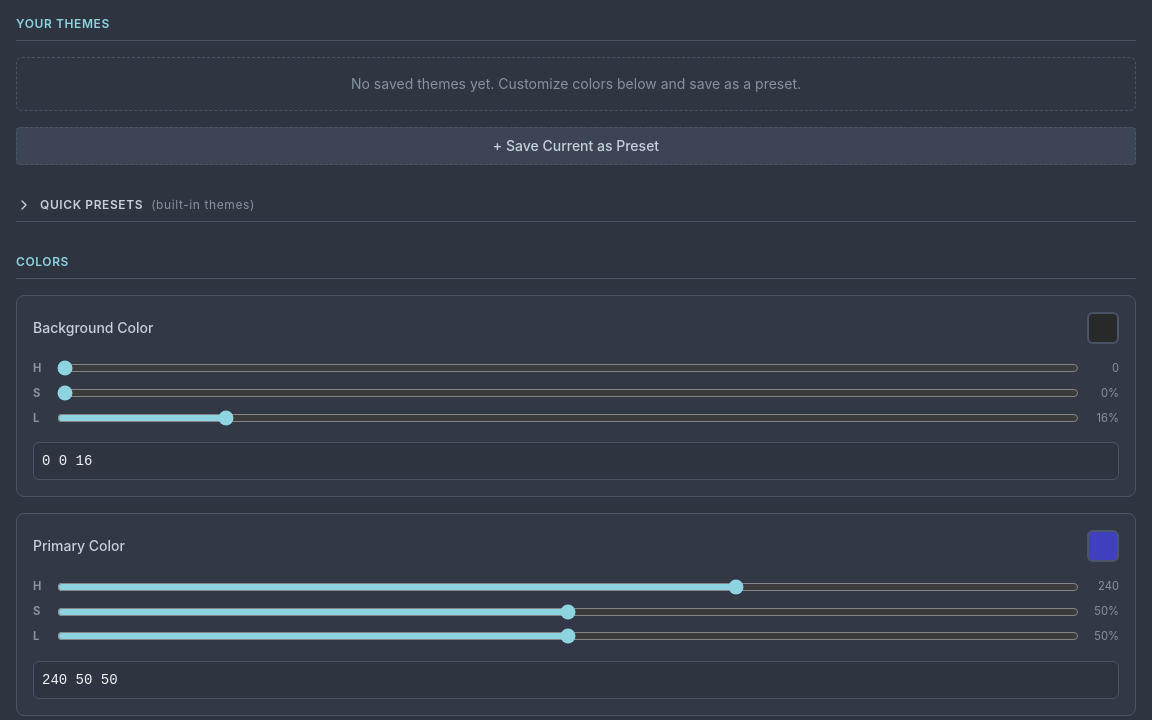
Scenario: ThemeDesigner › renders preset buttons
// Expand Quick Presets (hidden by default)
Click the text "Quick Presets" at (92, 205), box [40,197,143,213]
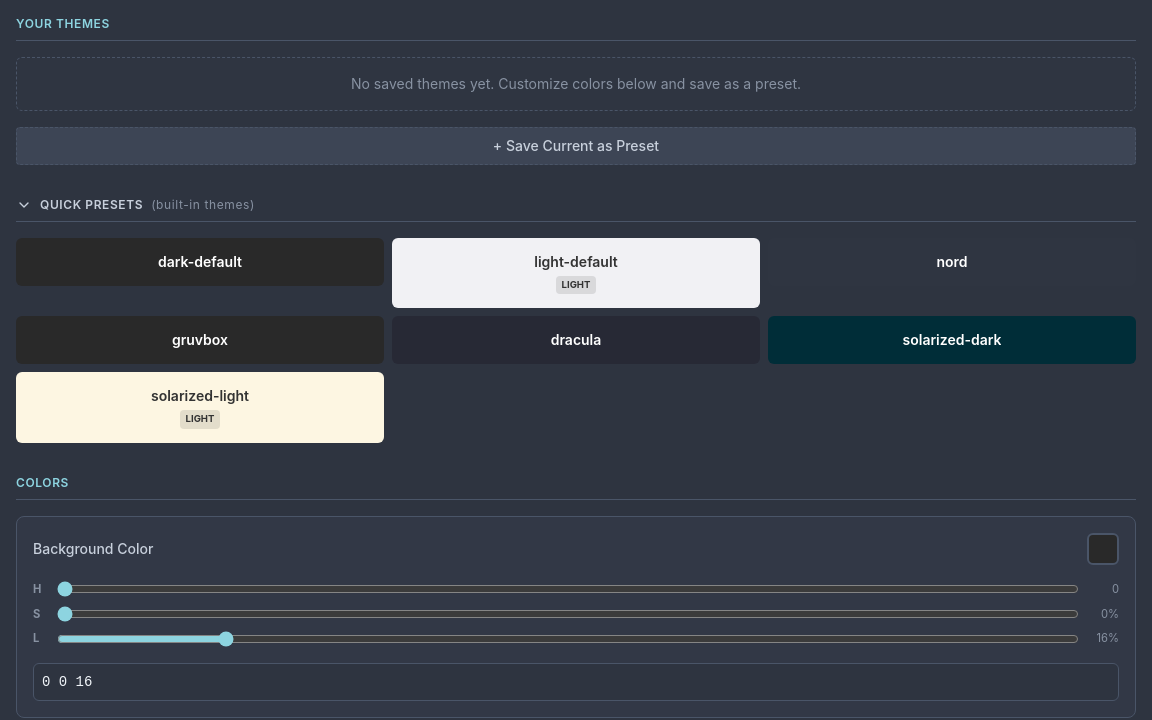
Check: the text "dark-default" is shown, box [158,252,242,272]
Check: the text "light-default" is shown, box [534,252,618,272]
Check: the text "nord" is shown, box [936,252,968,272]
